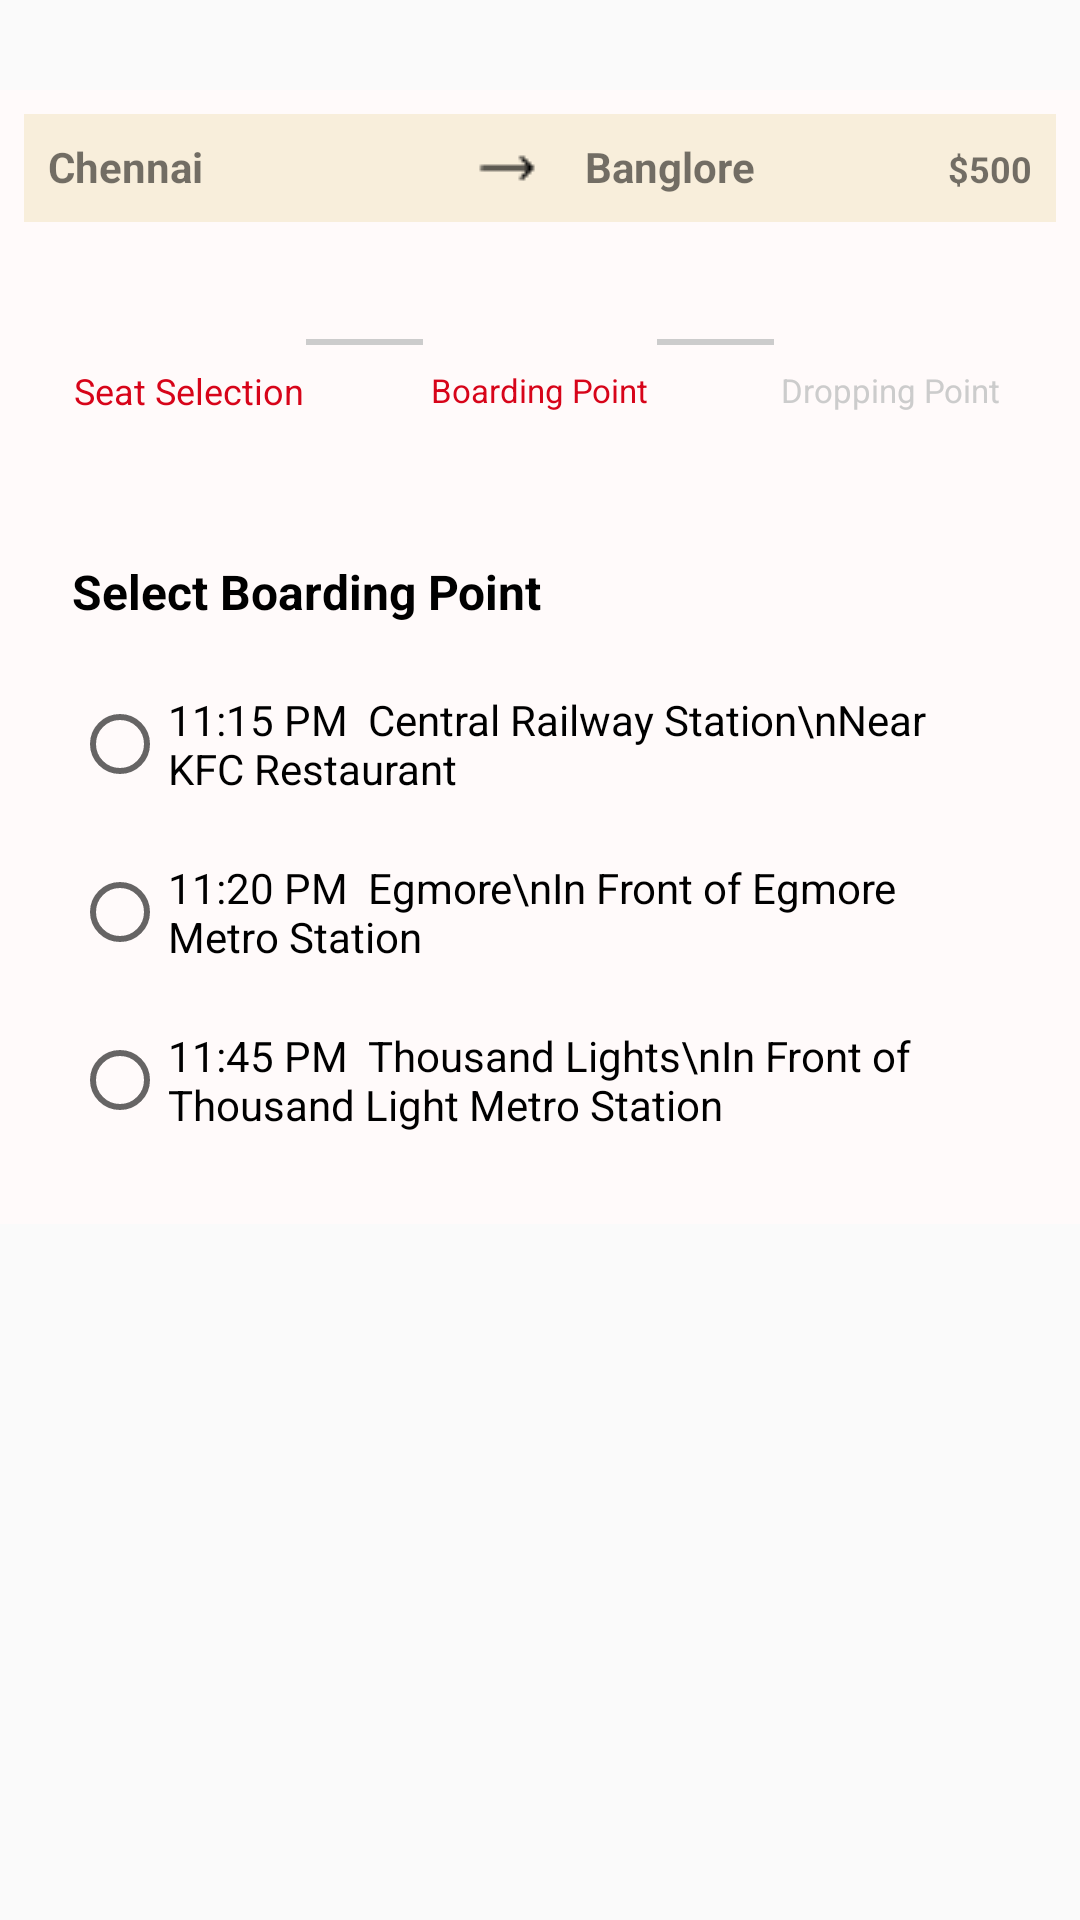

Named icons in this screenshot (1080px×1920px) and their bounding boxes, (x1, y1, x2, y2):
frontarrow: (479, 155, 535, 181)
